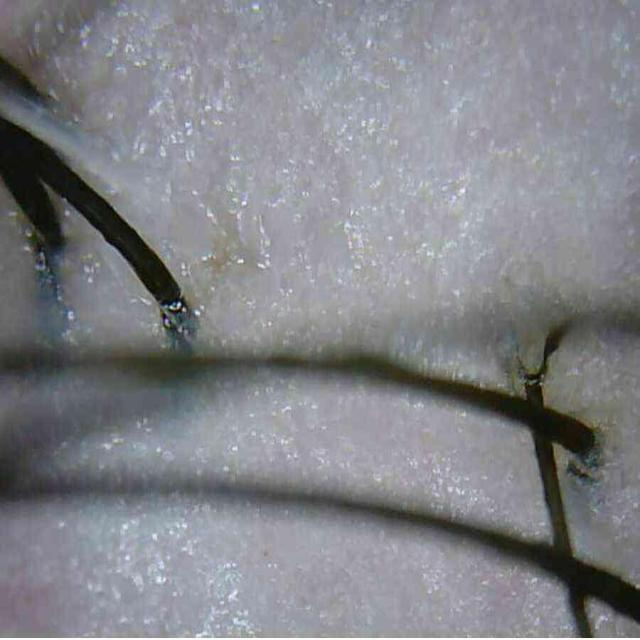o: (0, 3, 640, 586), (0, 369, 579, 636), (0, 186, 170, 351)
